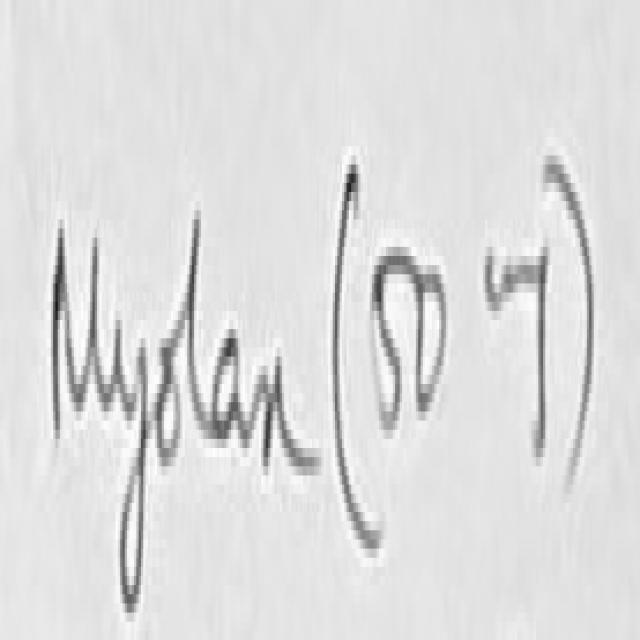0: (415, 274, 448, 424)
5: (374, 247, 416, 425)
M: (53, 233, 116, 434)
O: (157, 347, 180, 462)
a: (213, 329, 243, 439)
g: (531, 247, 549, 478)
l: (187, 212, 213, 456)
m: (484, 238, 535, 320)
n: (259, 336, 319, 480)
y: (120, 347, 148, 608), (110, 320, 136, 428)
